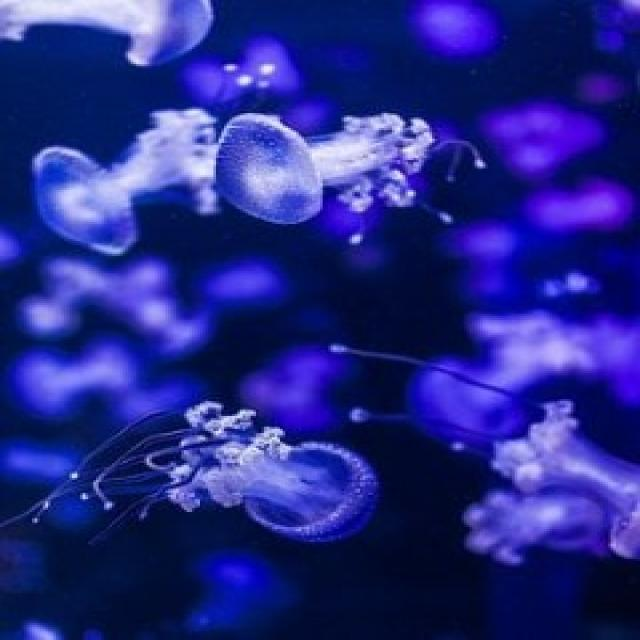Jellyfish: (148, 389, 396, 559), (210, 113, 489, 227), (499, 397, 640, 571), (24, 133, 201, 242)
